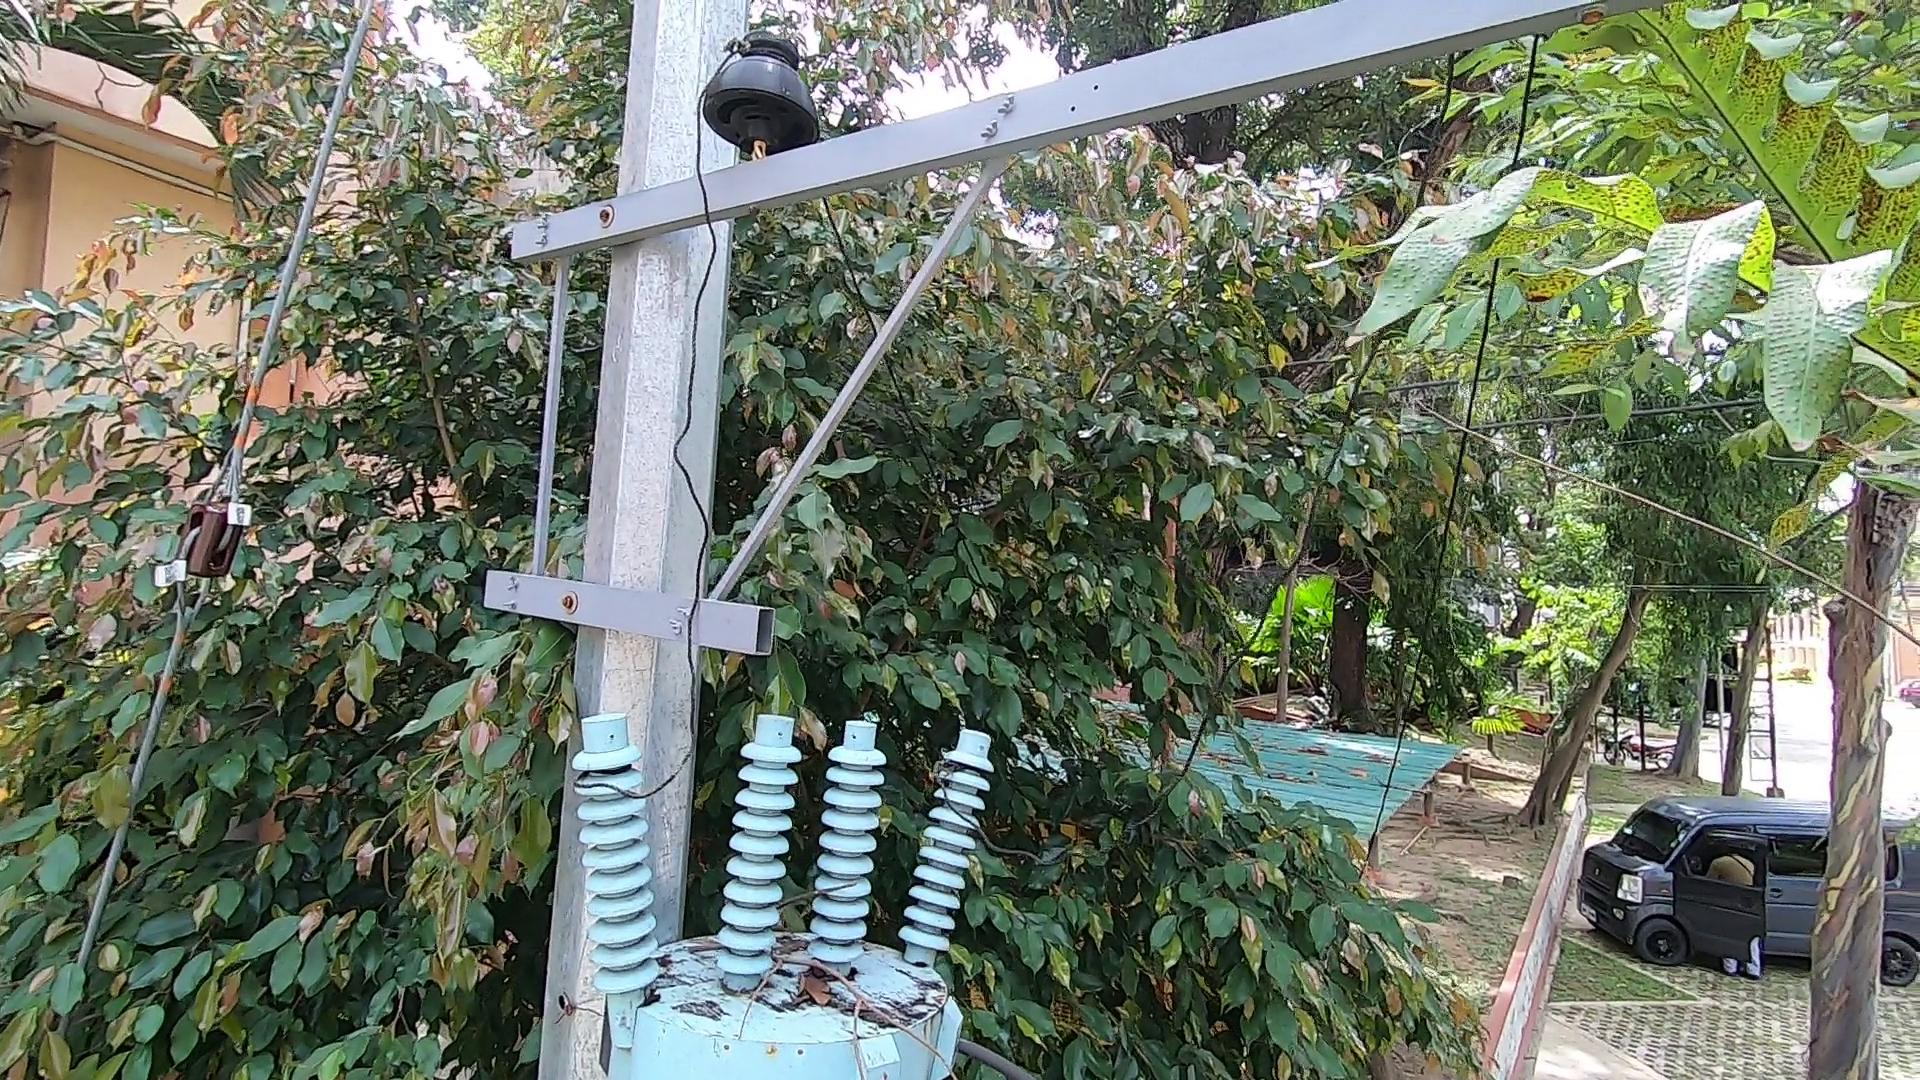leaf: (775, 953, 835, 1011)
tree branch: (713, 919, 948, 1080)
